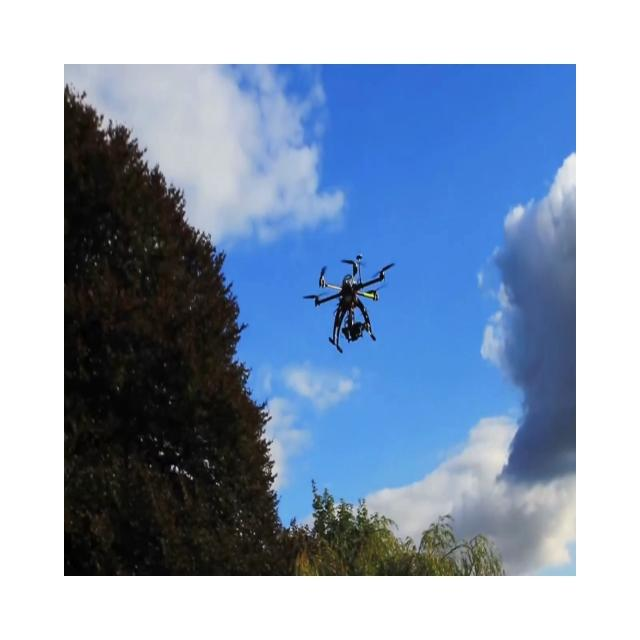drone: (302, 253, 395, 354)
